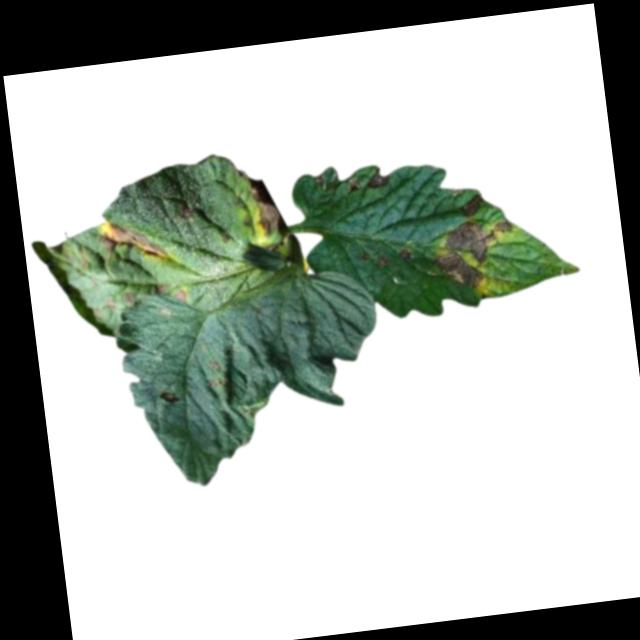Early_blight: (432, 217, 522, 295), (97, 212, 169, 262), (248, 174, 288, 239), (365, 170, 395, 190), (159, 386, 181, 406), (175, 286, 191, 303), (399, 245, 412, 261), (376, 250, 387, 265)
